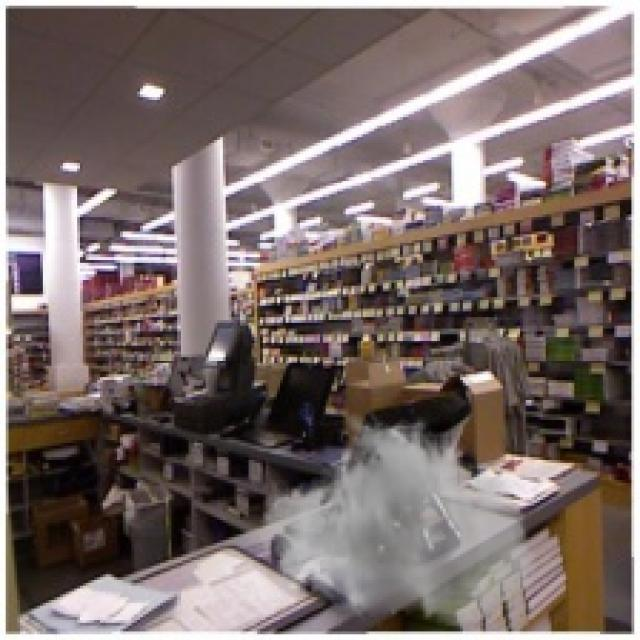smoke: (257, 412, 540, 628)
